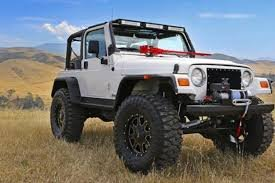mobil: (48, 18, 271, 167)
